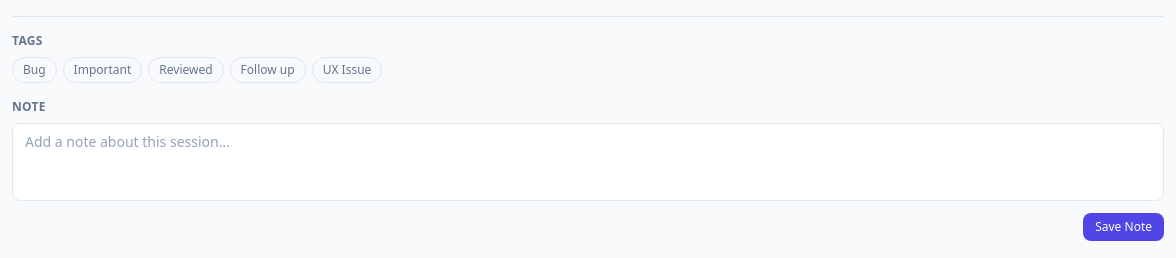
SessionNoteEditor › shows Saved indicator after successful save
Click the button with test id "save-note-button": {"x": 1124, "y": 227} [1083,213,1164,241]
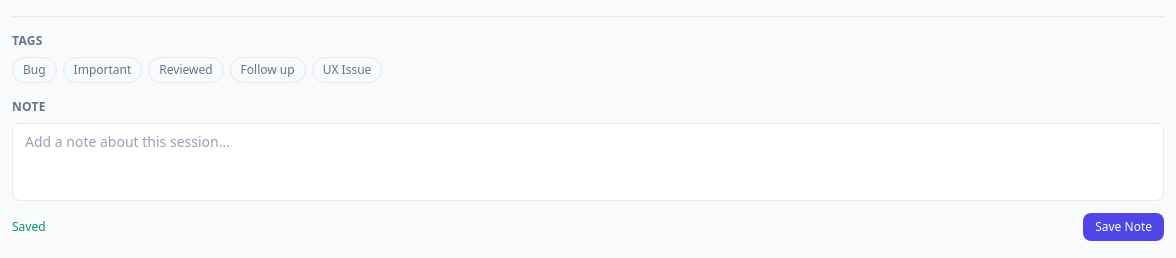
expect the text "Saved" is shown: met, box [12,219,46,235]
